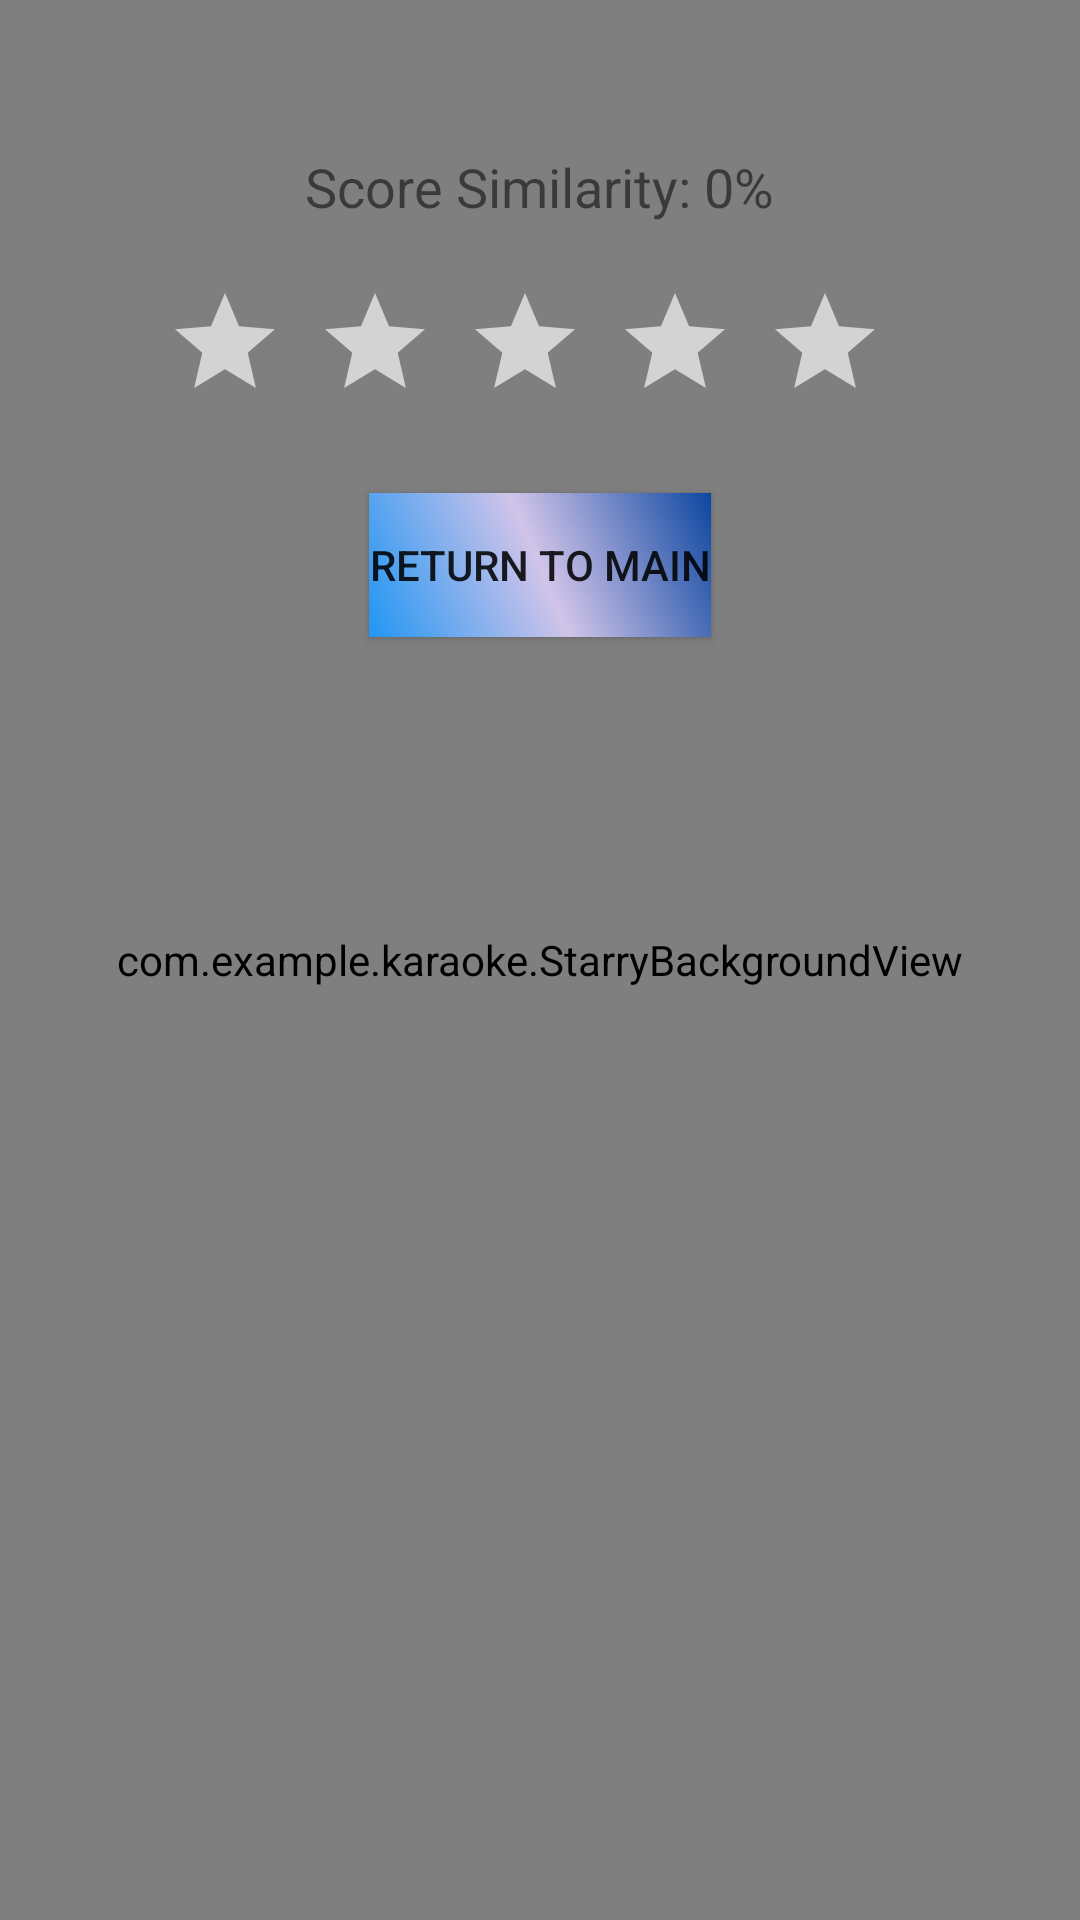

Where to tap for icons on this 1080x1920 app screen, as [x,y]:
star empty: [225,341], [375,341], [525,341], [675,341], [825,341]
